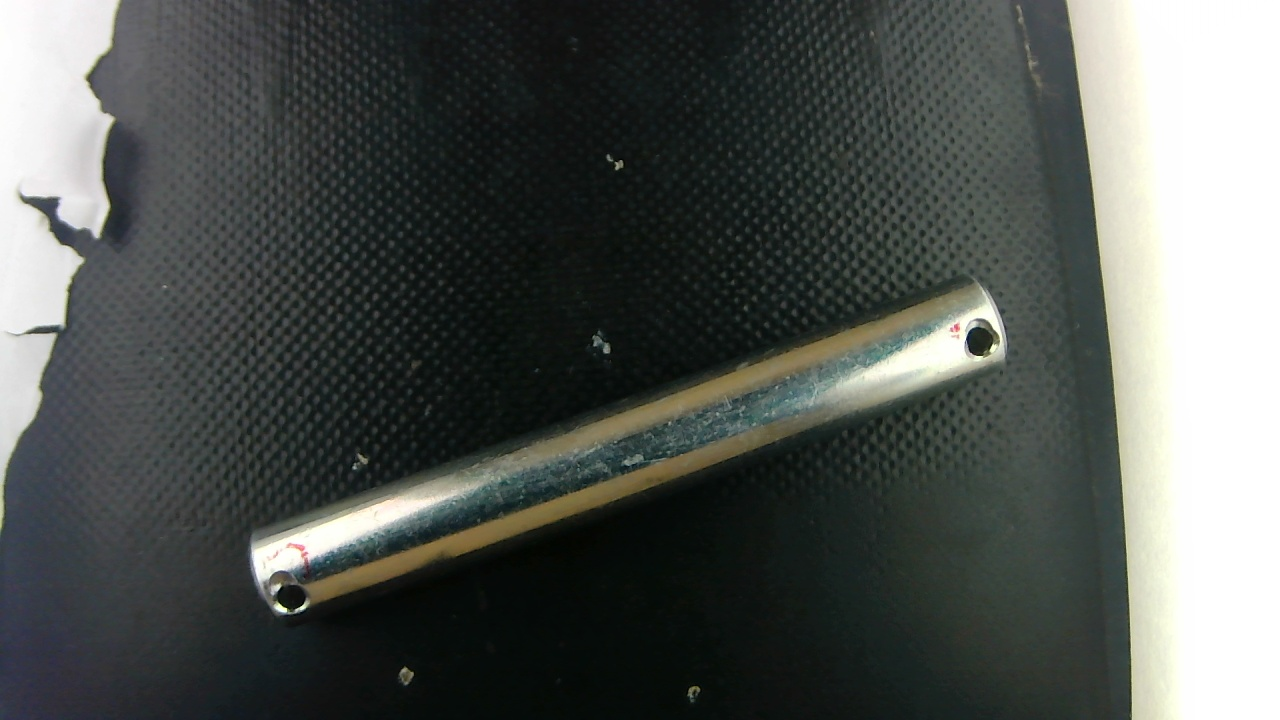drill touch_pin: (258, 559, 302, 626)
